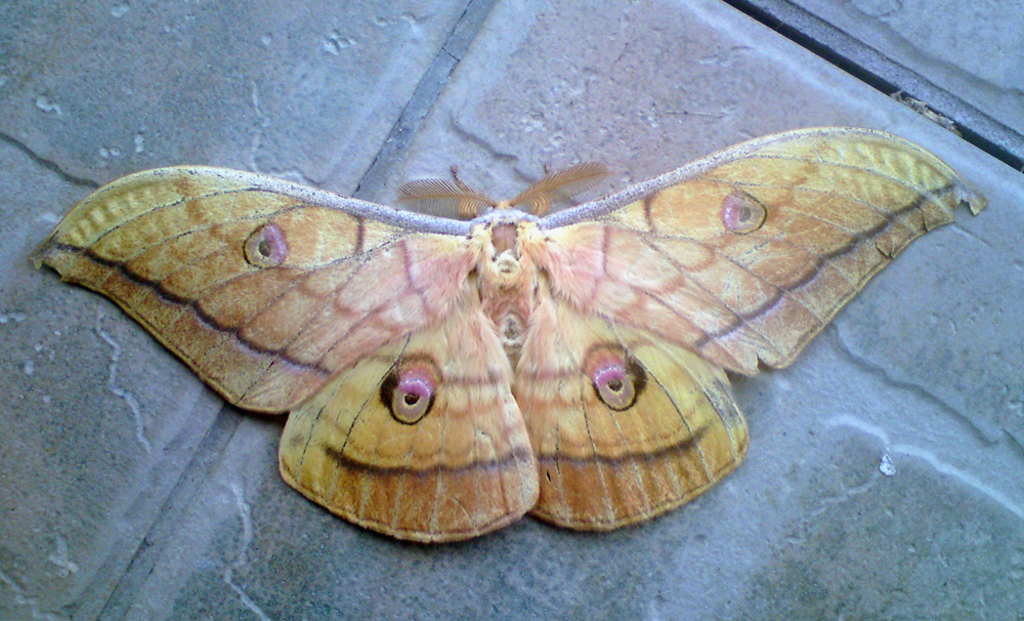Butterfly: (38, 121, 984, 545)
